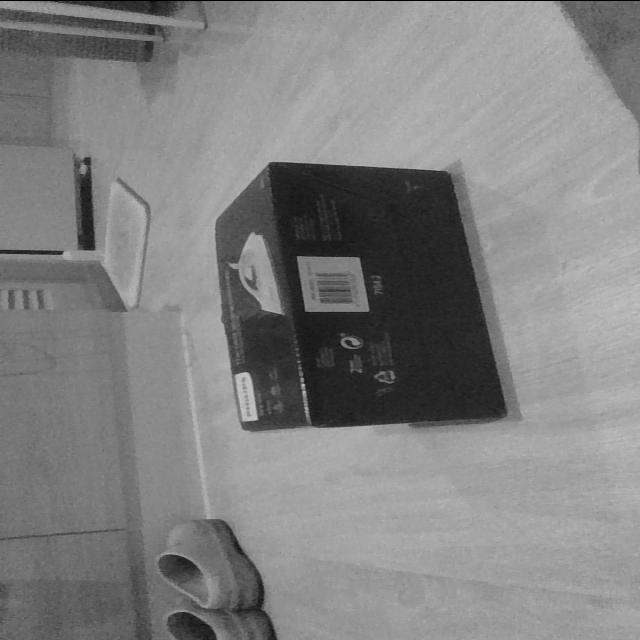IRON: (211, 159, 511, 433)
